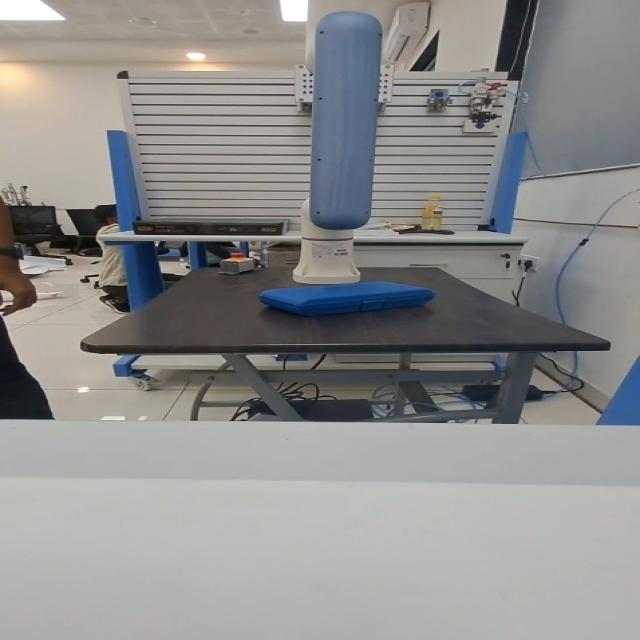top-surface: (289, 283, 412, 298)
